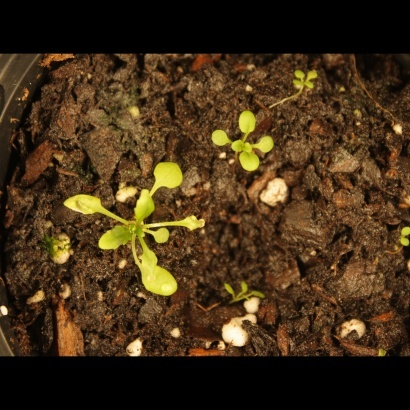leaf: (135, 259, 182, 300), (57, 191, 108, 219), (151, 157, 187, 194), (96, 225, 140, 252), (129, 188, 160, 223), (175, 211, 213, 234), (237, 109, 260, 135), (151, 225, 174, 248), (213, 274, 236, 297), (250, 285, 273, 308), (239, 271, 262, 294), (238, 151, 261, 174), (256, 132, 279, 155), (210, 127, 233, 150), (232, 134, 255, 157), (306, 82, 329, 105), (308, 60, 331, 83), (282, 81, 305, 104), (284, 60, 307, 83), (387, 237, 410, 260), (387, 212, 410, 235)
